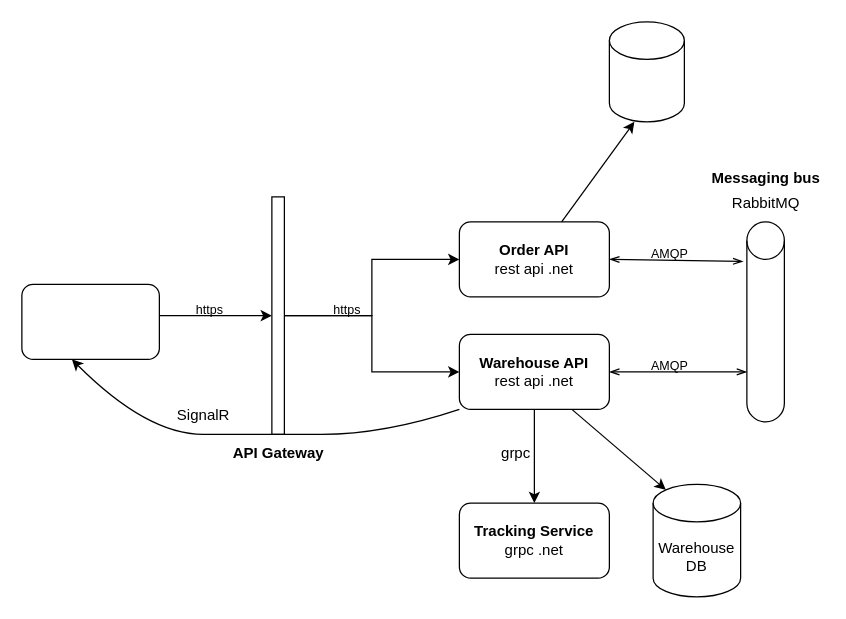
The diagram is 846 pixels wide and 619 high, and some of its shapes have lost their labels. Here are the shapes that lost their labels. From the top down, the centre of each, then its label:
point (646, 71): Order DB
point (90, 321): SPA angular
